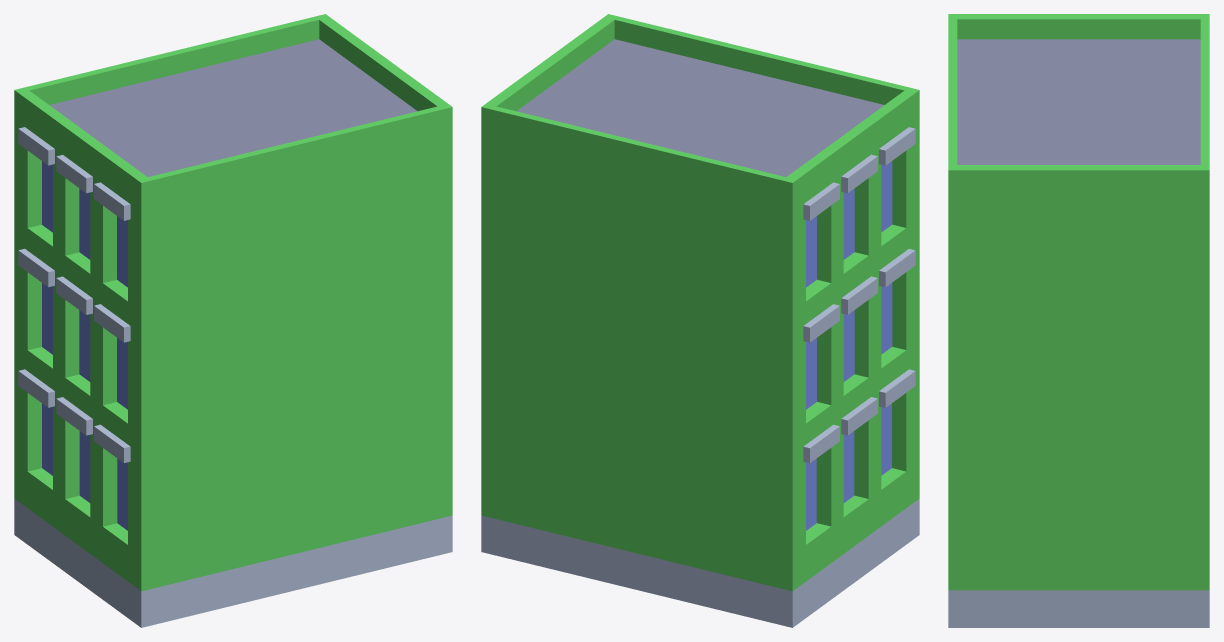
The model's file is House 2.fbx.
3 views of the same model, side by side, from view 1: azimuth 30°, elevation 25°; view 2: azimuth 150°, elevation 25°; view 3: azimuth 270°, elevation 25° (orthographic). The views are drawn at different scales.
Parts seen in each view (by area): view 1: House 2; view 2: House 2; view 3: House 2.
Part boxes in pixels (x1,y1,x2,y2): House 2: (14, 14, 452, 627); House 2: (481, 14, 919, 627); House 2: (948, 14, 1209, 627).
Bounding box in the file's own units: 1144 × 1530 × 792.
Materials: 1 (1 with a texture image).
